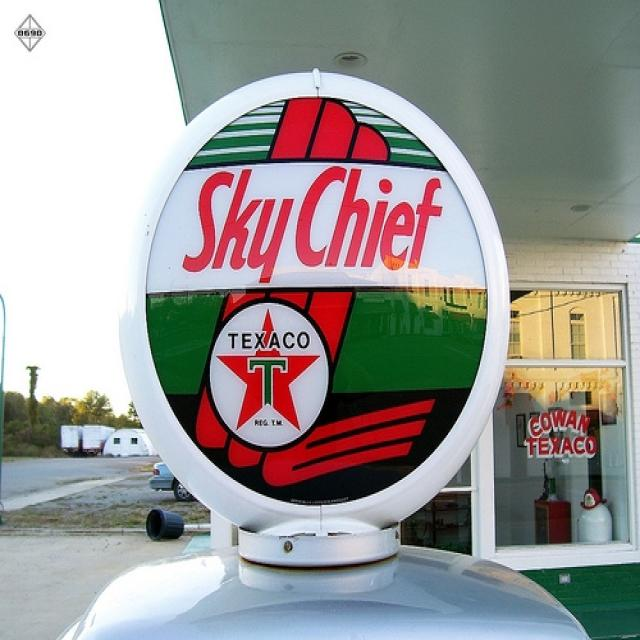texaco: (208, 301, 330, 451)
